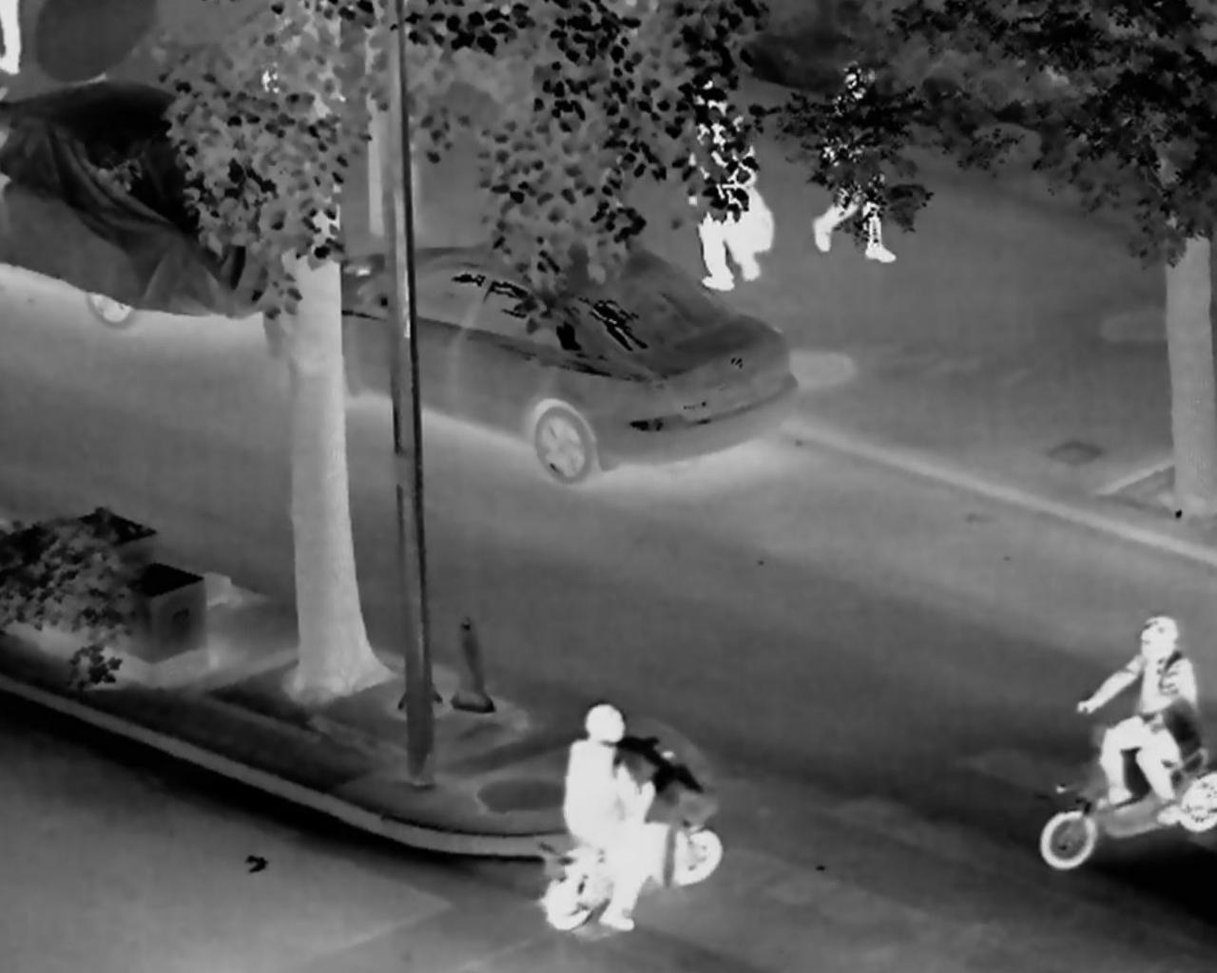person: (1072, 620, 1209, 811), (565, 705, 658, 933), (686, 82, 770, 292), (812, 66, 900, 265)
